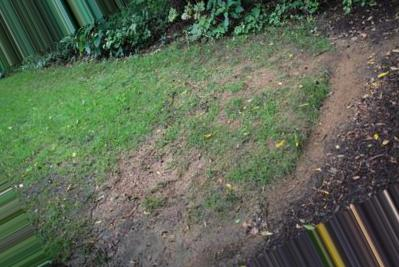patch: (174, 98, 231, 132), (219, 57, 274, 91), (306, 59, 355, 97), (117, 153, 169, 185), (190, 165, 236, 200), (114, 212, 180, 235), (309, 111, 336, 150), (270, 136, 296, 172), (267, 182, 298, 209), (170, 141, 215, 159), (203, 222, 245, 241), (129, 192, 159, 205), (278, 111, 294, 119)
